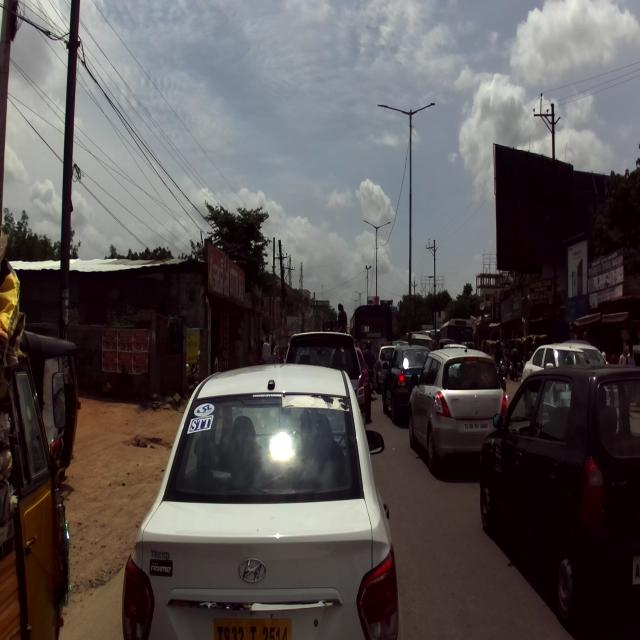Car_Hyundai: (122, 361, 398, 638)
Car_Maruti-Suzuki: (480, 365, 638, 631), (407, 344, 510, 477), (521, 341, 593, 431)
Car_Toyota: (284, 330, 366, 431)
autorickshaw: (0, 255, 70, 640), (18, 327, 81, 480)
